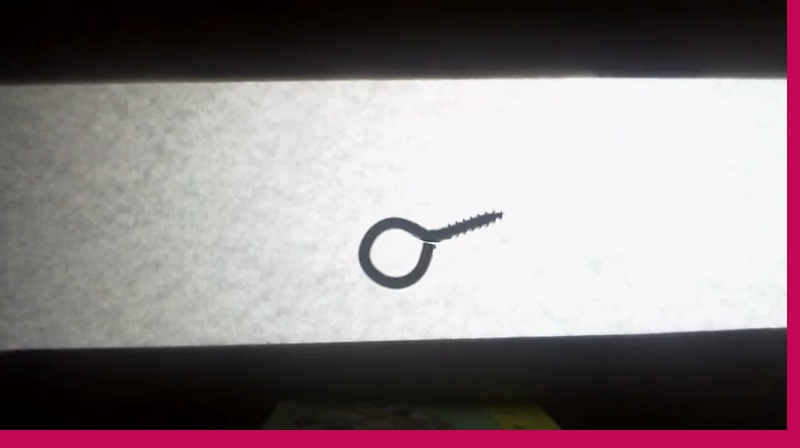O001: (352, 205, 506, 290)
